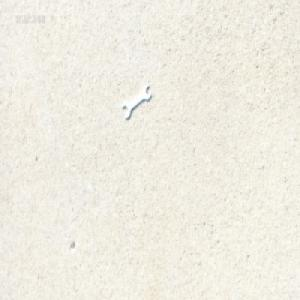Wrench: (121, 84, 152, 119)
